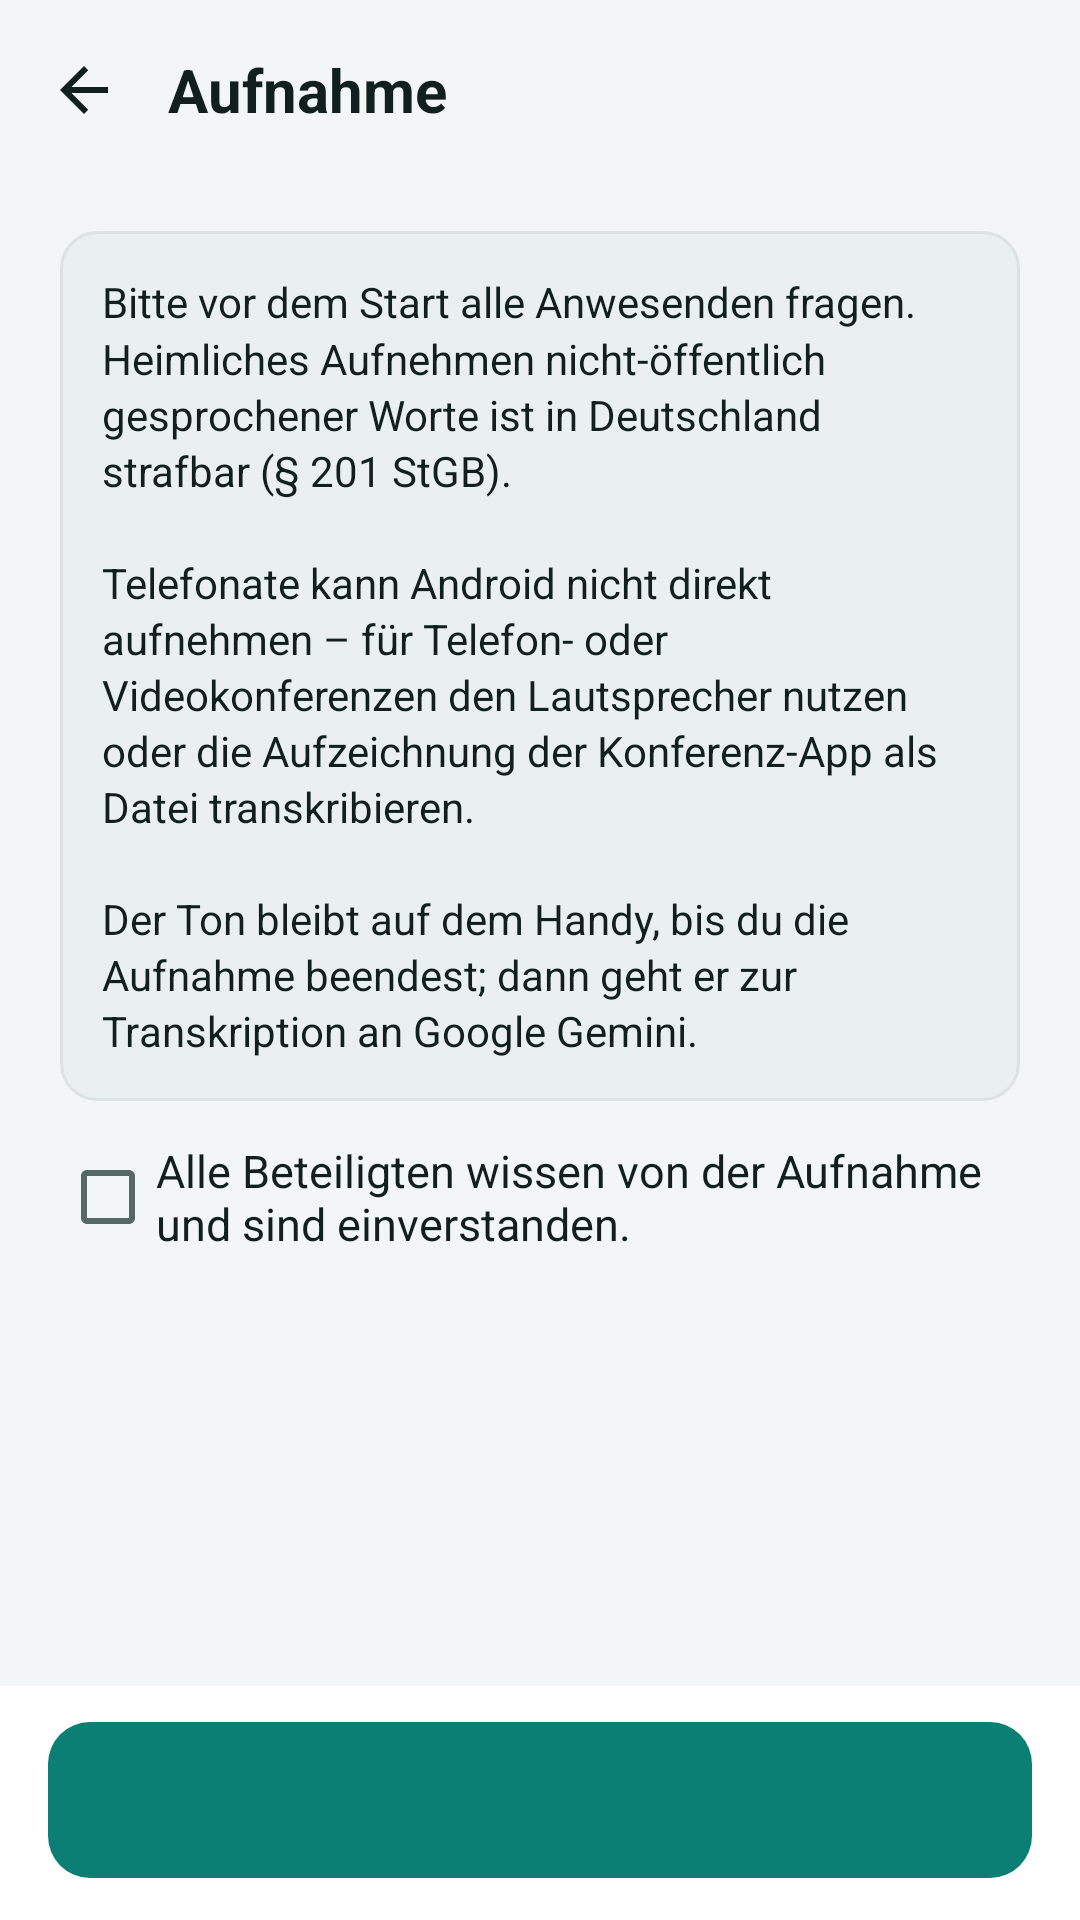

Locate icon controls on the screen. Image size 1080×1920, boxes as (x1, y1, x2, y2).
Zurück: (60, 66, 108, 114)
